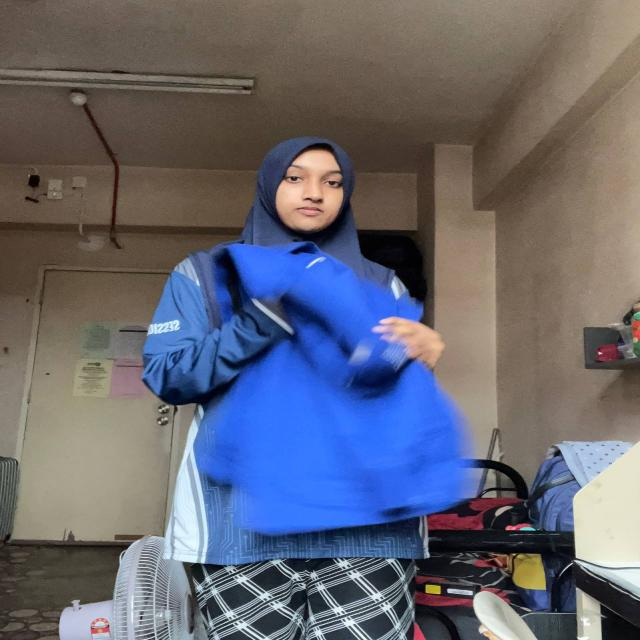person_without_labcoat: (142, 138, 463, 640)
